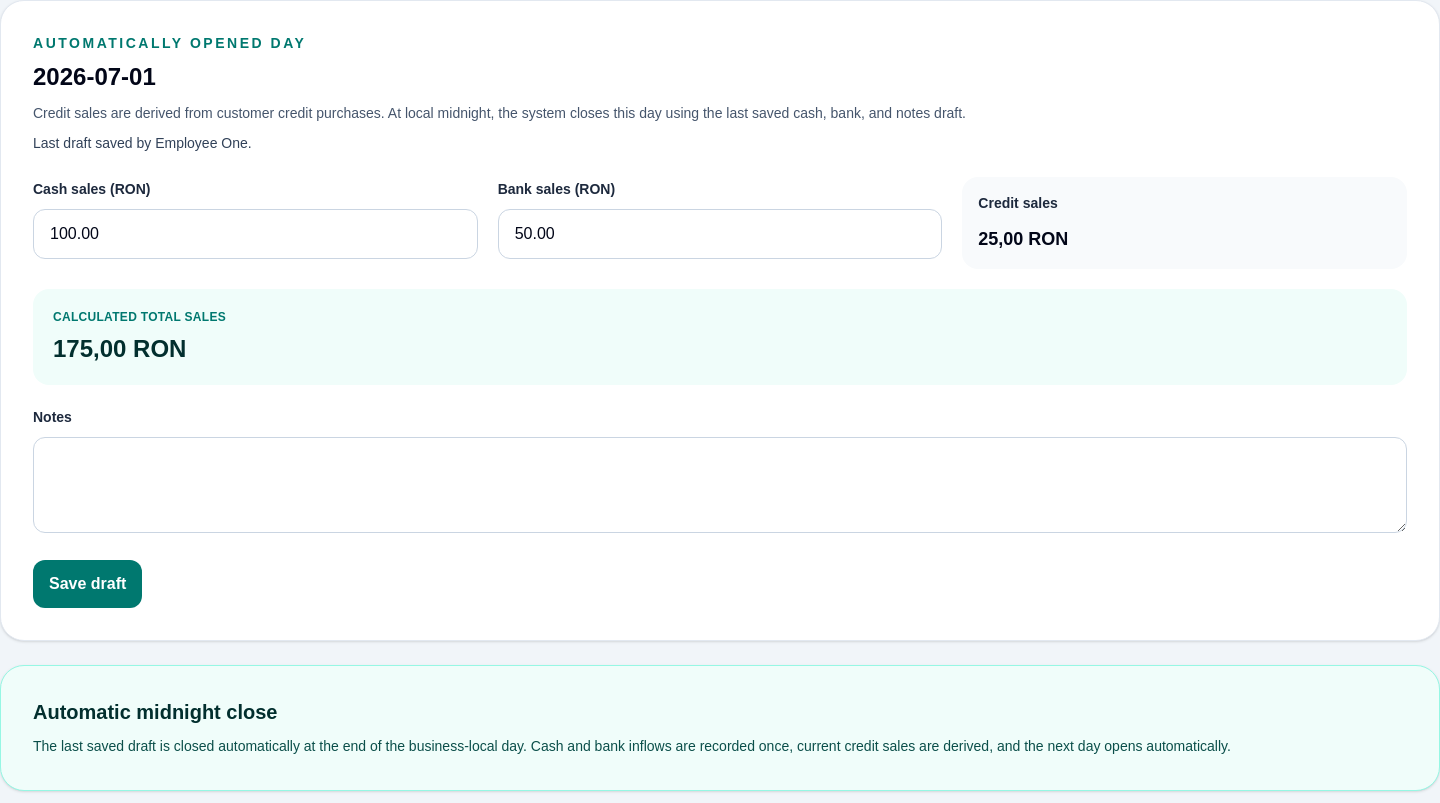
Test: daily sales manager › warns that unsaved amounts are not used at midnight
The width and height of the screenshot is (1440, 803).
Replace the text in the field labelled "Cash sales (RON)" with "120": x=255, y=234 [33,209,478,259]
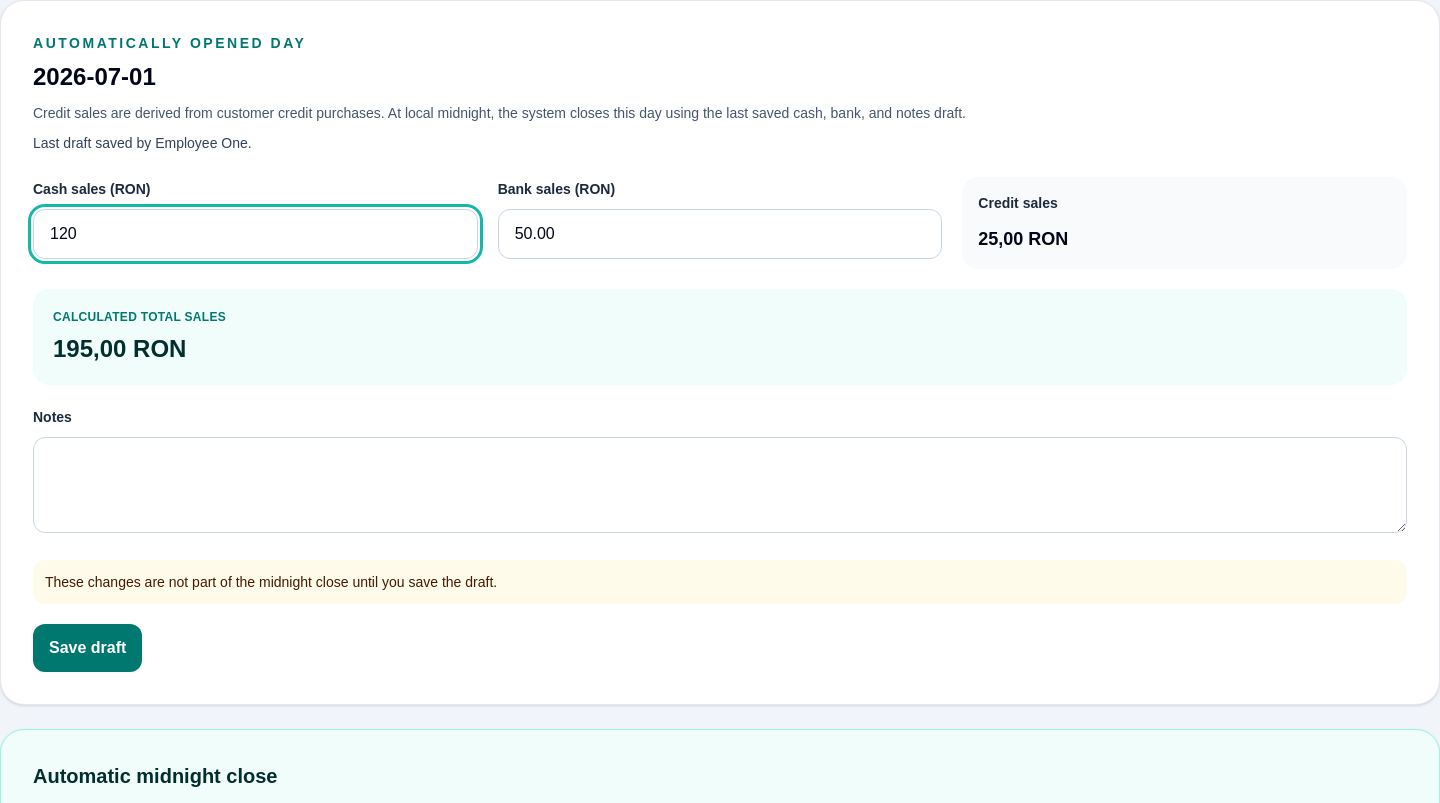
Result: the text "not part of the midnight close until you save" is shown at [45,574,497,590]
Result: the text "195,00 RON" is shown at [53,335,186,362]
